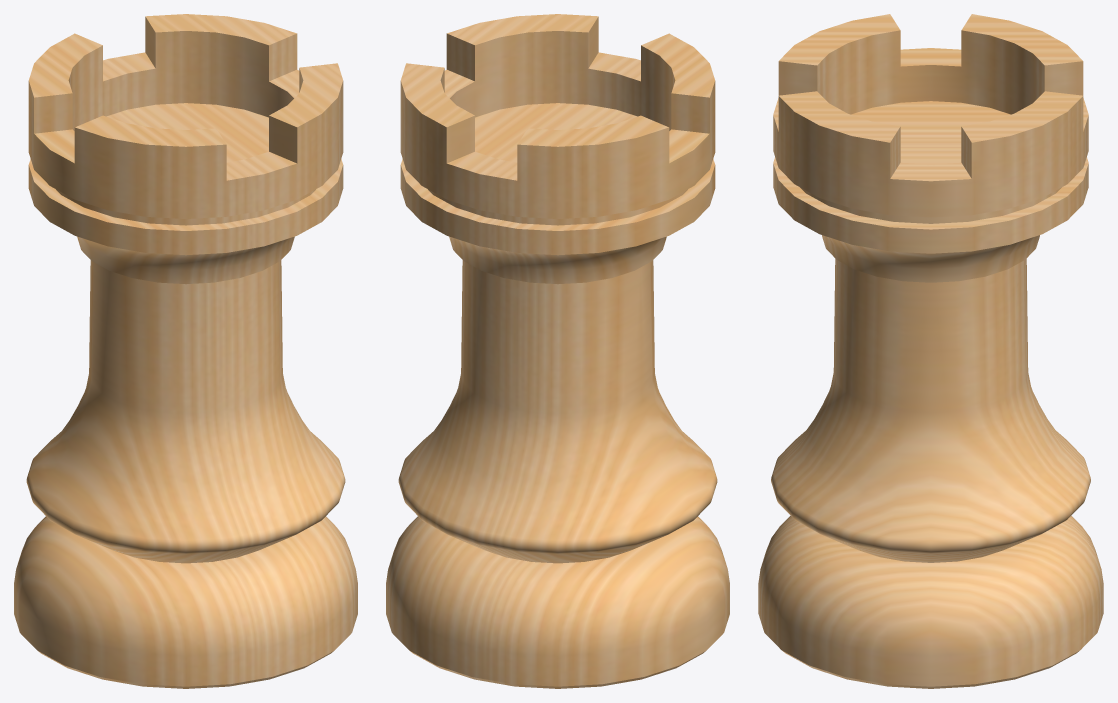
The model's file is white_rook.gltf.
3 renders of one model, left to right at view 1: azimuth 30°, elevation 25°; view 2: azimuth 150°, elevation 25°; view 3: azimuth 270°, elevation 25°, orthographic.
Parts seen in each view (by area): view 1: Material2.019, Material2.022, Material2.020, Material2.021; view 2: Material2.019, Material2.022, Material2.020, Material2.021; view 3: Material2.019, Material2.022, Material2.020, Material2.021.
Part boxes in pixels (x1,y1,x2,y2): Material2.019: [14, 260, 357, 688]; Material2.022: [28, 14, 343, 218]; Material2.020: [28, 159, 343, 284]; Material2.021: [56, 189, 315, 225]; Material2.019: [386, 260, 729, 688]; Material2.022: [400, 14, 715, 218]; Material2.020: [400, 159, 715, 284]; Material2.021: [428, 189, 687, 225]; Material2.019: [758, 259, 1103, 688]; Material2.022: [773, 14, 1088, 217]; Material2.020: [773, 157, 1088, 282]; Material2.021: [800, 187, 1061, 223].
Size of the model in its own units: 0.1811 by 0.3124 by 0.1811.
1 material, 1 textured.
